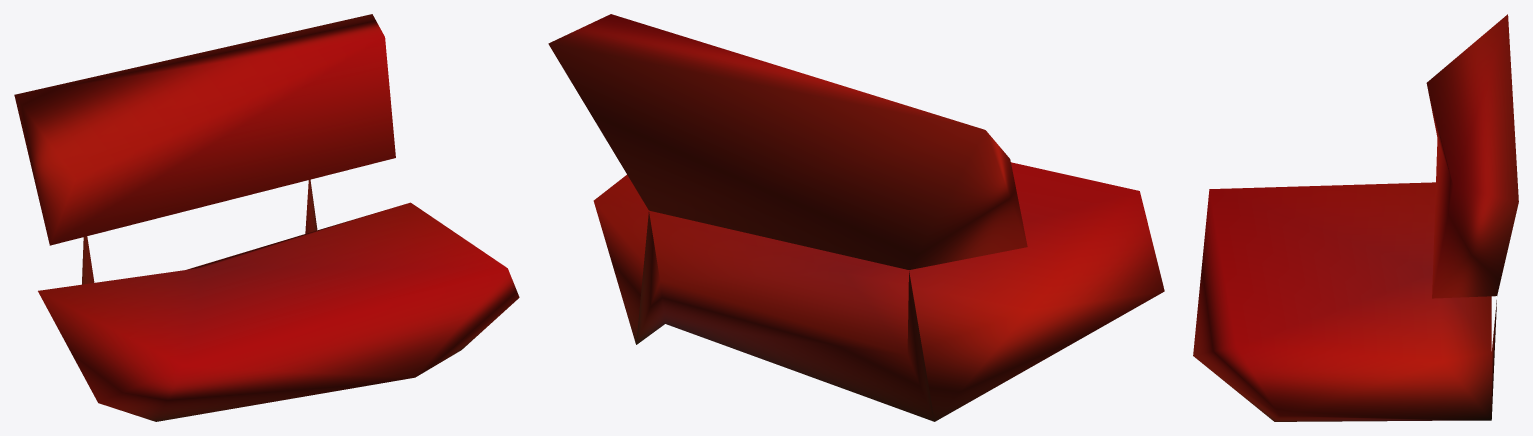
The model's file is SheenChair_128B_mesh.glb.
The picture shows the model from 3 angles, left to right: view 1: azimuth 30°, elevation 25°; view 2: azimuth 150°, elevation 25°; view 3: azimuth 270°, elevation 25°; orthographic projection. The views are drawn at different scales.
Bounding box in the file's own units: 2 × 1.21 × 1.34.
